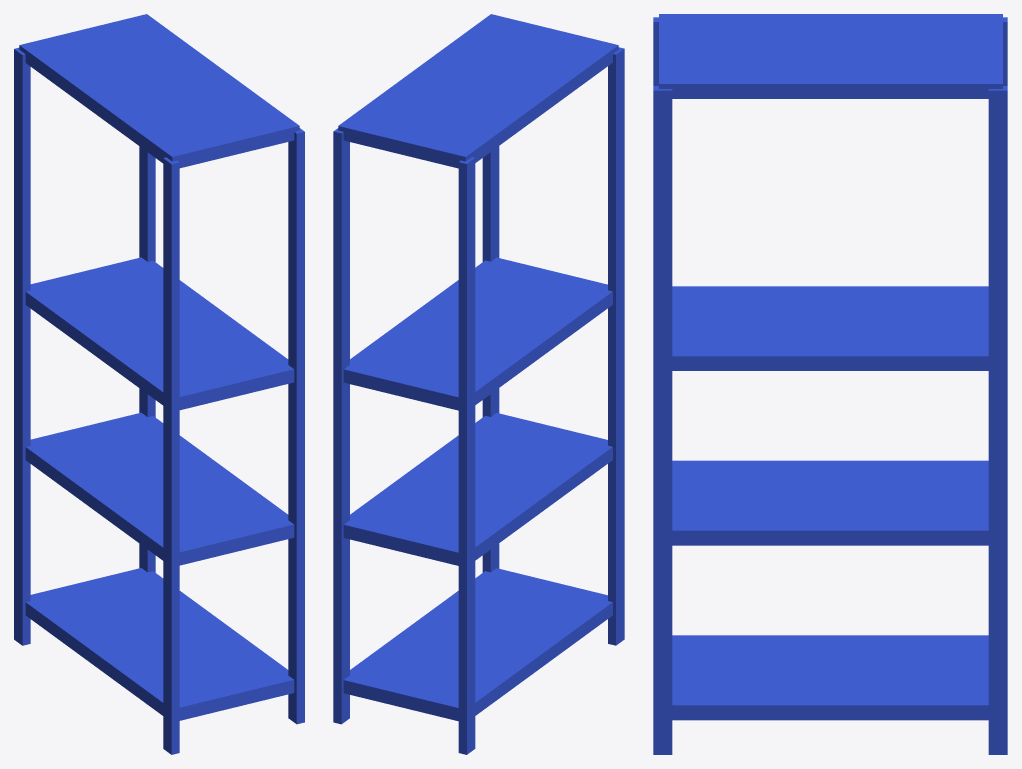
File: GarageShelf.fbx
3 renders of one model, left to right at view 1: azimuth 30°, elevation 25°; view 2: azimuth 150°, elevation 25°; view 3: azimuth 270°, elevation 25°, orthographic. The views are drawn at different scales.
Visible parts, largest first — view 1: GarageShelf; view 2: GarageShelf; view 3: GarageShelf.
Part boxes in pixels (x1=…): GarageShelf: x1=14, y1=14, x2=304, y2=754; GarageShelf: x1=333, y1=14, x2=624, y2=754; GarageShelf: x1=653, y1=14, x2=1007, y2=754.
Size of the model in its own units: 89.85 by 383 by 184.
